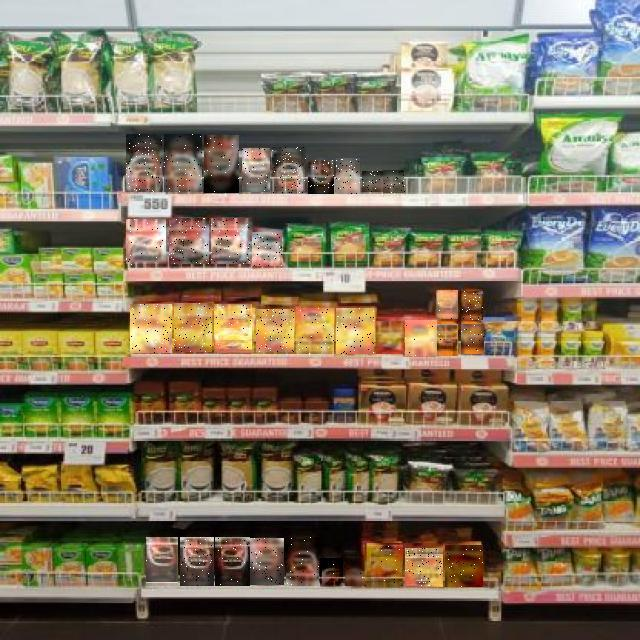Coffee: (164, 134, 202, 192), (126, 134, 162, 192), (130, 304, 172, 353), (204, 135, 239, 193), (174, 303, 212, 352), (214, 304, 252, 353), (212, 219, 252, 265), (169, 218, 209, 264), (126, 220, 166, 266), (297, 308, 335, 354), (337, 309, 375, 355), (215, 537, 250, 586), (365, 543, 403, 588), (257, 310, 295, 354), (180, 537, 214, 586), (251, 538, 285, 585), (445, 545, 483, 587), (286, 538, 319, 586), (272, 147, 306, 193), (147, 538, 179, 586), (405, 548, 443, 587), (242, 148, 270, 192), (405, 321, 437, 357), (253, 232, 283, 266), (376, 321, 404, 354), (308, 160, 334, 194), (337, 158, 361, 194), (436, 324, 458, 356), (461, 324, 484, 354), (460, 291, 483, 320), (320, 558, 343, 587), (436, 290, 458, 319), (384, 170, 406, 193), (346, 559, 364, 587), (362, 171, 383, 192)
